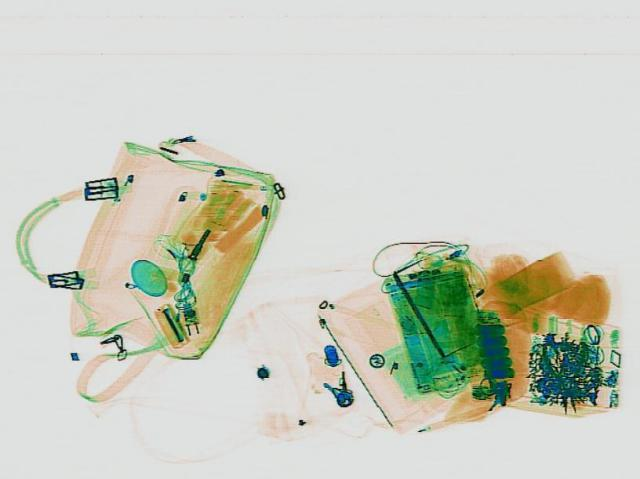Pliers: (540, 341, 594, 414)
